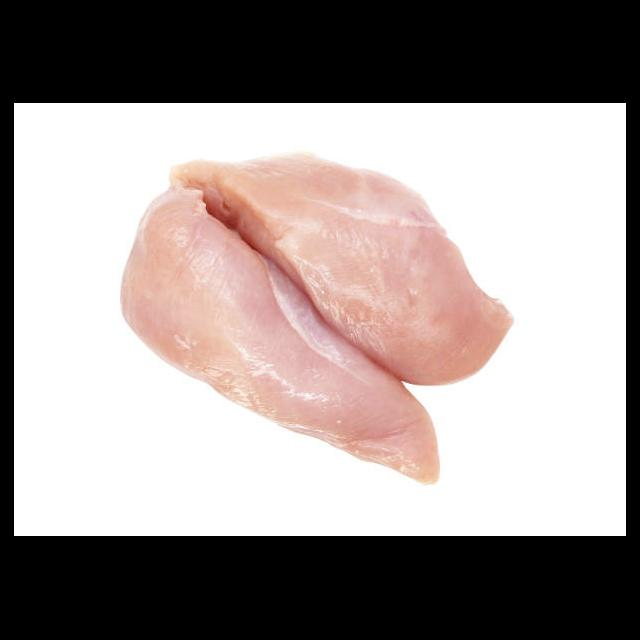chicken: (120, 184, 441, 486), (165, 154, 517, 386)
